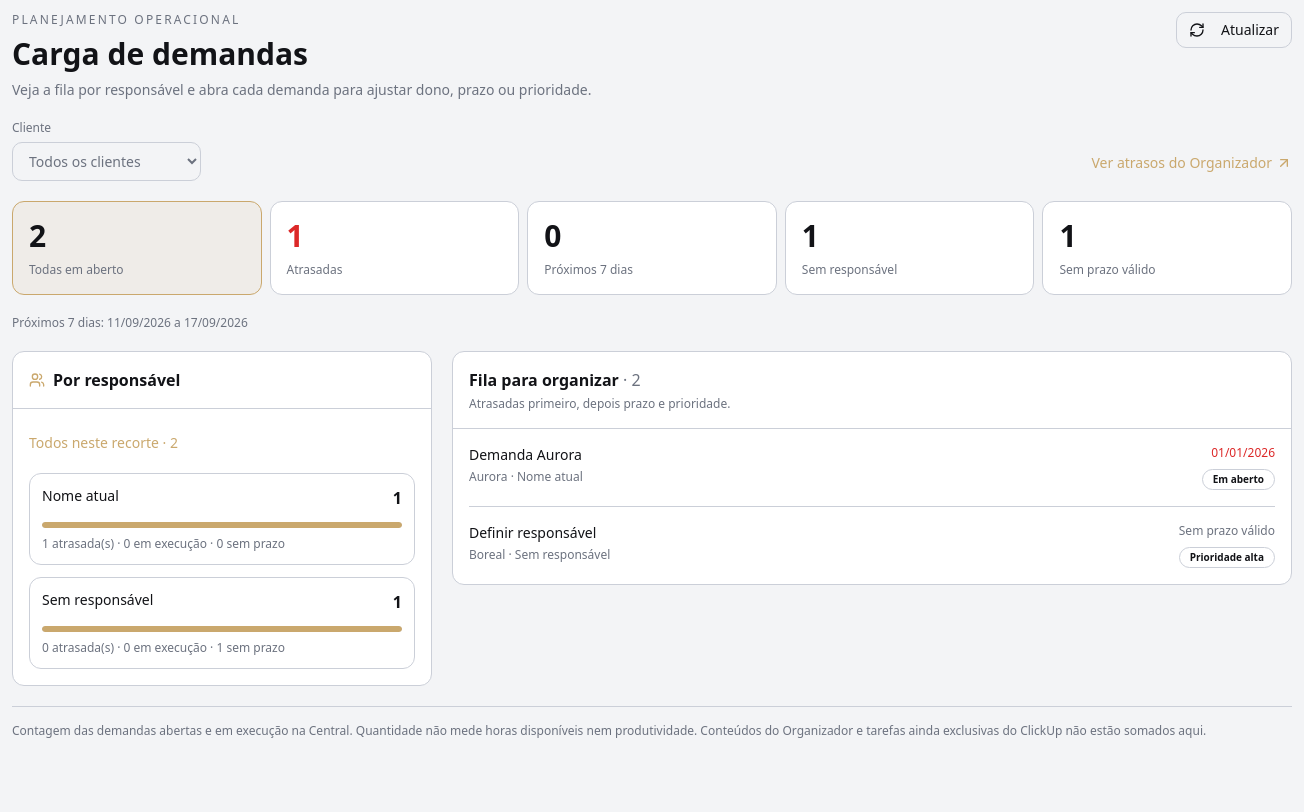
permite identificar e abrir a demanda sem dono ou prazo
Click the button "1 Sem responsável".
click(910, 248)  # box [785,201,1034,295]
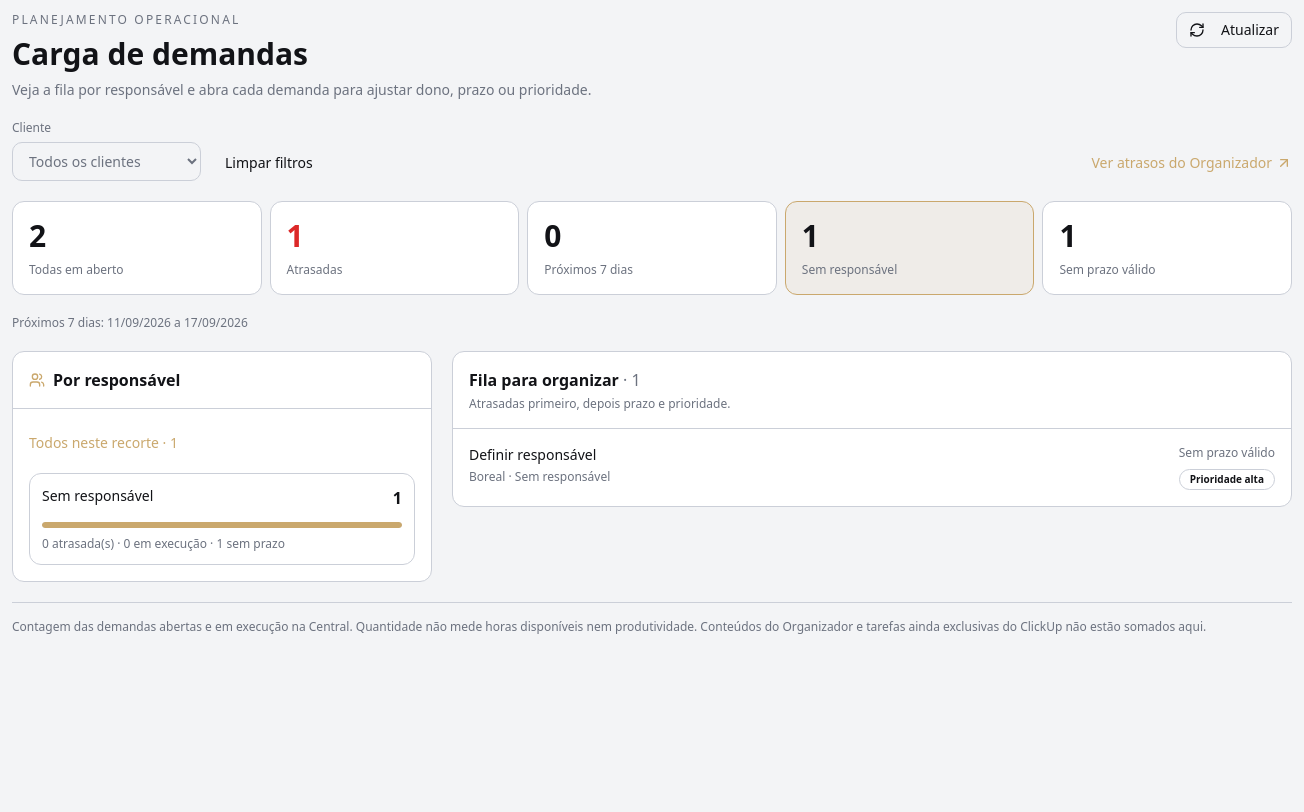
Check: the link "Definir responsável" is shown, box [469,444,1275,490]
Check: the link "Demanda Aurora" is gone
